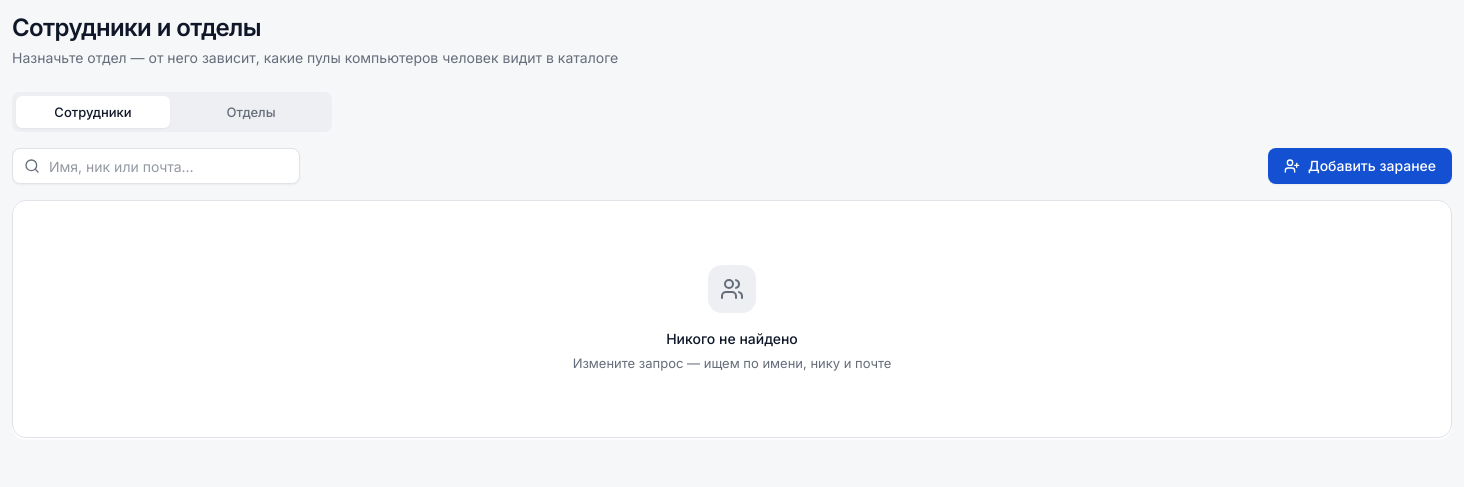
Test: PeoplePage › вкладка «Отделы» показывает справочник отделов вместо сотрудников и переключается обратно
The width and height of the screenshot is (1464, 487).
Click the button "Отделы". click: (251, 112)
box: [174, 96, 328, 128]
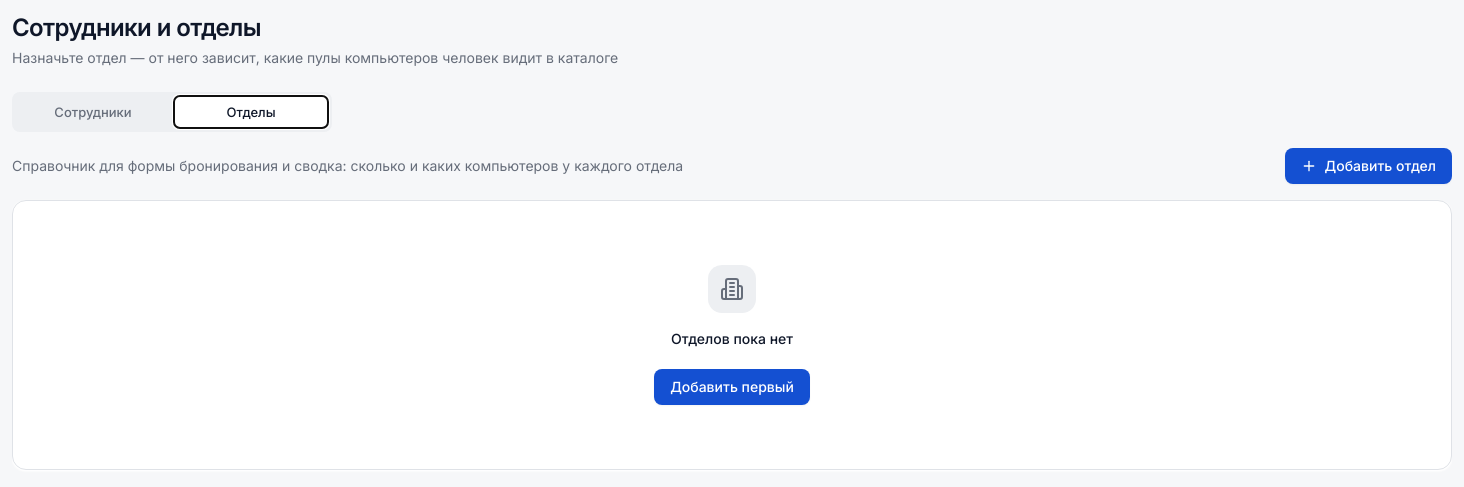
Expected: the text "Отделов пока нет" is shown, [671, 329, 793, 349]
Expected: the button "Добавить отдел" is shown, [1285, 148, 1452, 184]
Click the button "Сотрудники". click: (93, 112)
box: [16, 96, 170, 128]
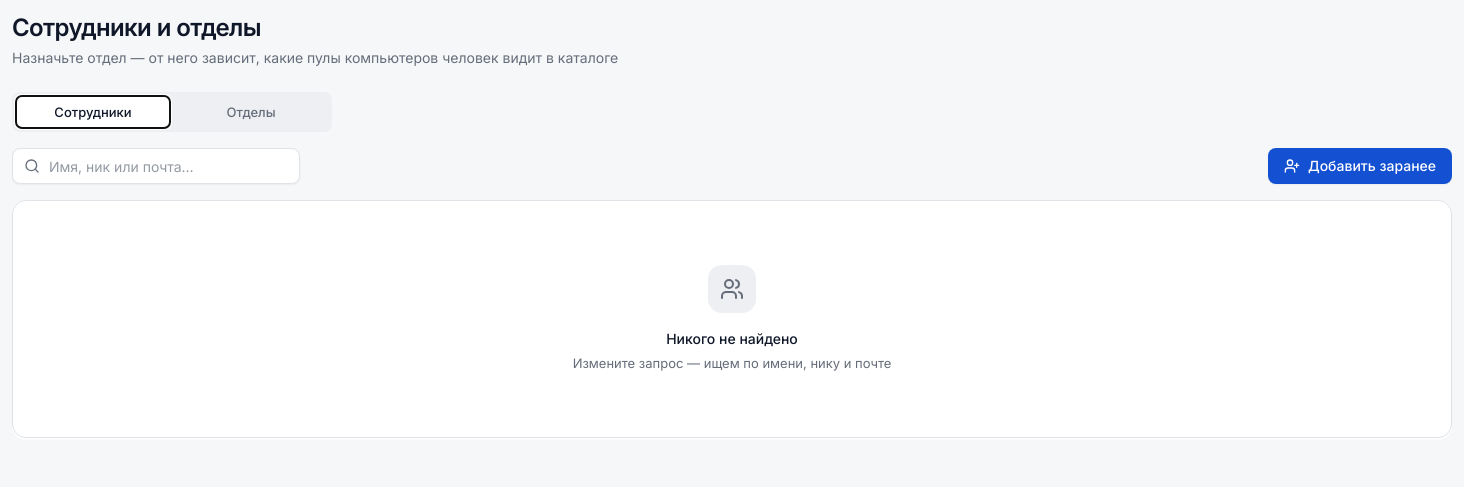
Expected: the field named "Поиск сотрудника" is shown, [12, 148, 300, 184]
